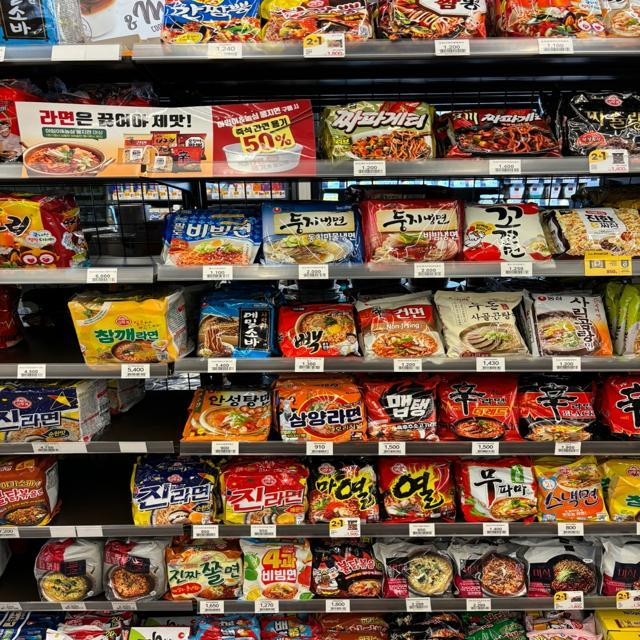product: (323, 96, 434, 164), (364, 196, 462, 262), (262, 204, 364, 265), (74, 302, 178, 361), (355, 295, 444, 363), (448, 106, 553, 162), (529, 287, 611, 358), (517, 378, 600, 446), (455, 458, 534, 527), (462, 203, 550, 263), (223, 468, 309, 529), (442, 292, 525, 355), (134, 463, 217, 525), (277, 386, 366, 443), (444, 378, 517, 445), (383, 461, 456, 525), (164, 544, 240, 605), (197, 298, 270, 361), (366, 379, 438, 440), (1, 391, 87, 442), (314, 462, 381, 525), (539, 457, 601, 525), (246, 542, 310, 604)
